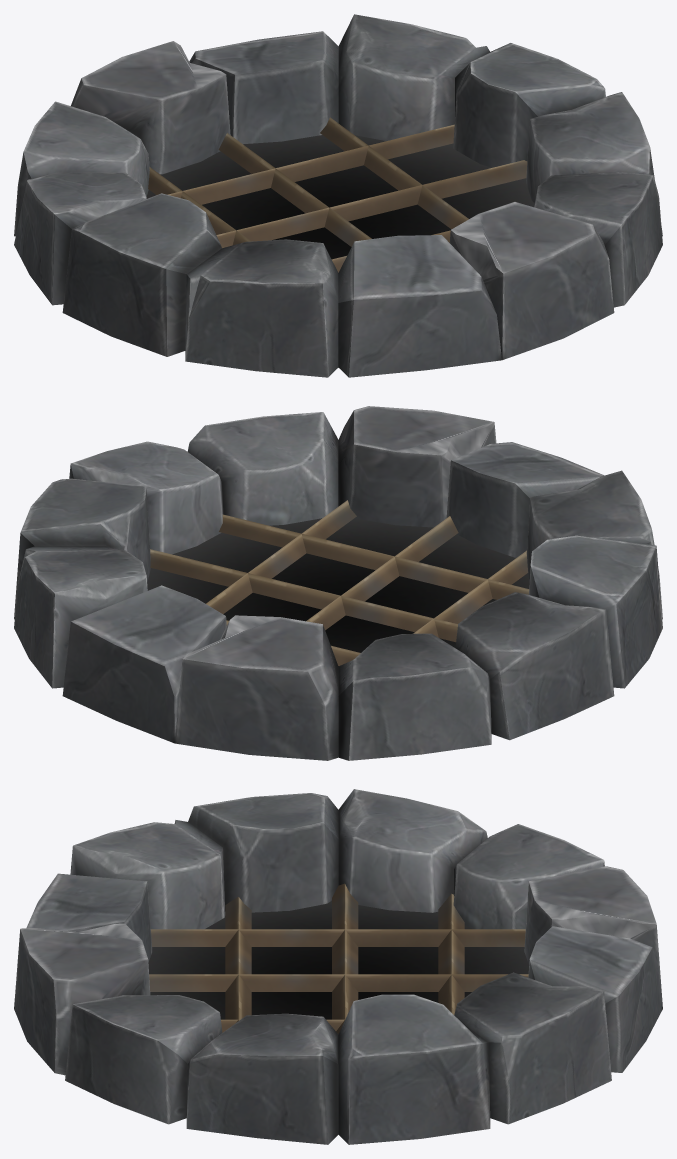
The model's file is Swever01.FBX.
3 renders of one model, top to bottom at view 1: azimuth 30°, elevation 25°; view 2: azimuth 150°, elevation 25°; view 3: azimuth 270°, elevation 25°, orthographic.
Parts seen in each view (by area): view 1: Swever01; view 2: Swever01; view 3: Swever01.
Part boxes in pixels (x1,y1,x2,y2): Swever01: (14,14,662,377); Swever01: (14,406,662,760); Swever01: (14,789,662,1144).
Bounding box in the file's own units: 2.42 × 2.44 × 0.4258.
